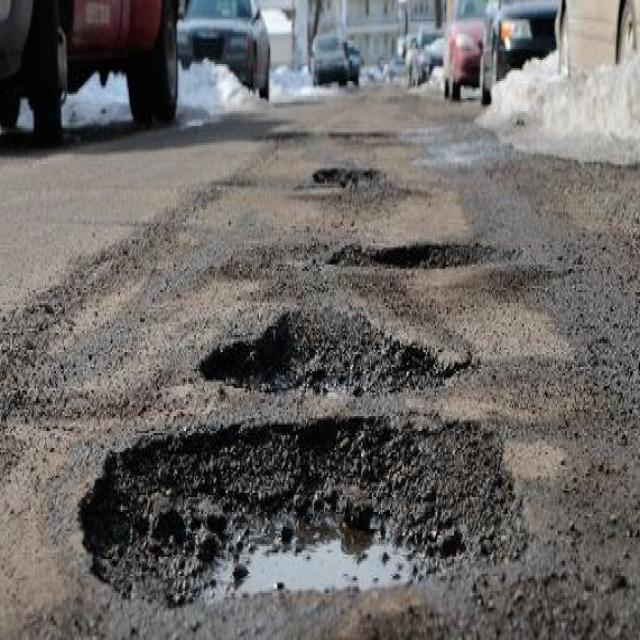Pothole: (74, 411, 532, 610), (197, 302, 479, 400), (328, 238, 522, 270), (314, 161, 383, 189)
